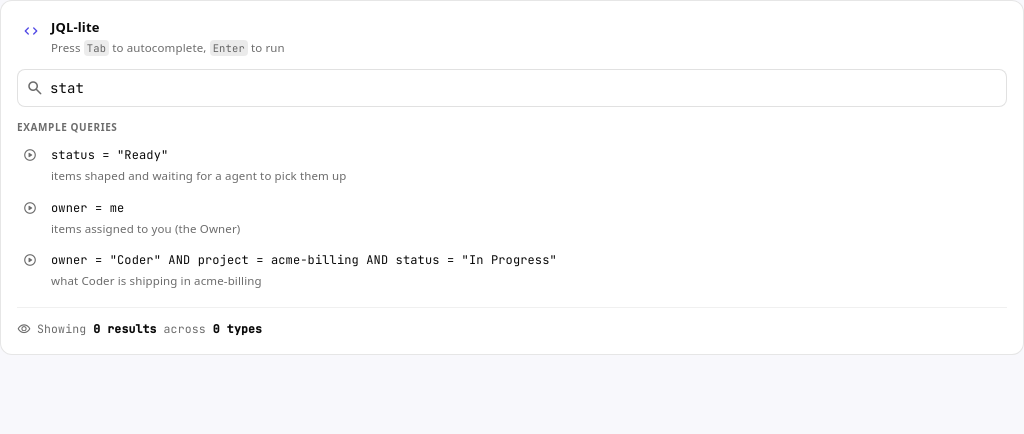
Test: SearchQueryInput › L321: suggestions.length === 1 → "1 match" (no "es" suffix) for single suggestion
This screenshot has width=1024, height=434.
Focus the field: {"x": 524, "y": 88} [50,76,998,100]
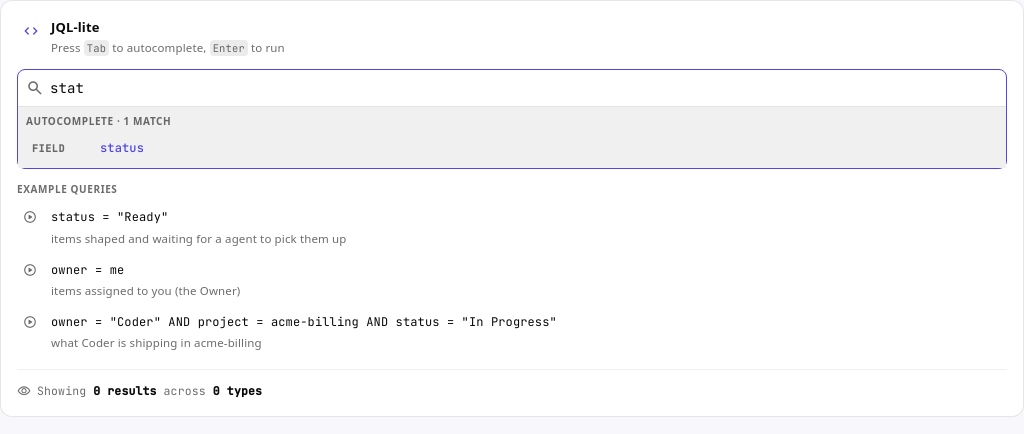
Result: the text "Autocomplete · 1 match" is shown at [26,114,171,128]
